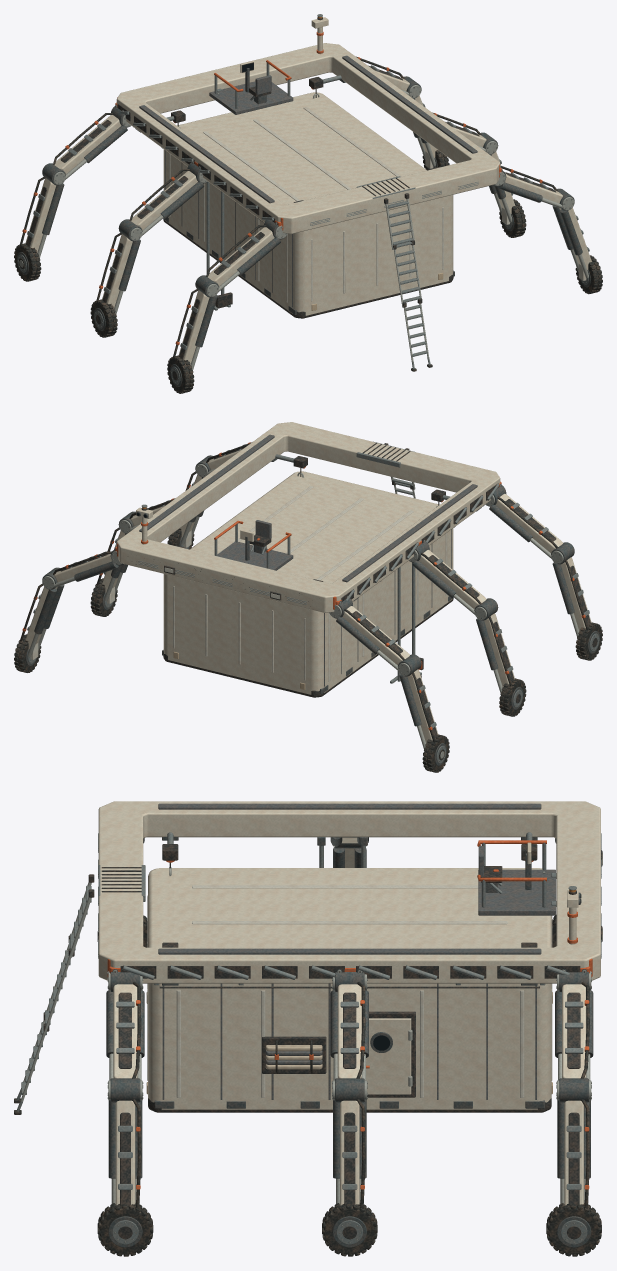
File: walker.glb
3 renders of one model, top to bottom at view 1: azimuth 30°, elevation 25°; view 2: azimuth 150°, elevation 25°; view 3: azimuth 270°, elevation 25°, orthographic. The views are drawn at different scales.
Visible parts, largest first — view 1: General_Module_outer_shell_rover_white, frame_rover_white, Module_hardware_white_painted, Ride_deck_platform_slate_panel, Body_hardware_graphite, Body_hardware_alloy, Outer_pipe_cover_slate_panel, Outer_pipe_cover_slate_panel.001, Machined_structural_link_rover_white.002, Machined_structural_link_rover_white, Machined_structural_link_rover_white.004, Knee_6_hardware_dark_alloy (+16 smaller); view 2: General_Module_outer_shell_rover_white, frame_rover_white, Module_hardware_white_painted, Body_hardware_alloy, Body_hardware_graphite, Ride_deck_platform_slate_panel, Outer_pipe_cover_slate_panel, Outer_pipe_cover_slate_panel.001, Module_hardware_graphite, Knee_4_hardware_dark_alloy, Machined_structural_link_rover_white.002, Machined_structural_link_rover_white (+16 smaller); view 3: General_Module_outer_shell_rover_white, frame_rover_white, Module_hardware_white_painted, Module_hardware_graphite, Body_hardware_graphite, Pressed_pressure_hatch_rover_white, Ride_deck_platform_slate_panel, Outer_pipe_cover_slate_panel, Outer_pipe_cover_slate_panel.001, Module_hardware_slate_panel, Body_hardware_alloy, Knee_6_hardware_dark_alloy (+23 smaller).
Boxes of the visible parts, x1,y1,x2,y2 form: General_Module_outer_shell_rover_white: (163,92,453,315); frame_rover_white: (116,43,500,233); Module_hardware_white_painted: (169,107,443,302); Ride_deck_platform_slate_panel: (209,81,293,114); Body_hardware_graphite: (115,104,409,224); Body_hardware_alloy: (120,111,478,225); Outer_pipe_cover_slate_panel: (139,105,274,203); Outer_pipe_cover_slate_panel.001: (342,55,477,153); Machined_structural_link_rover_white.002: (131,171,197,230); Machined_structural_link_rover_white: (54,115,121,174); Machined_structural_link_rover_white.004: (208,227,274,286); Knee_6_hardware_dark_alloy: (552,188,582,255); General_Module_outer_shell_rover_white: (163,471,453,694); frame_rover_white: (116,422,500,612); Module_hardware_white_painted: (173,486,447,681); Body_hardware_alloy: (138,441,499,604); Body_hardware_graphite: (136,443,501,606); Ride_deck_platform_slate_panel: (217,542,293,570); Outer_pipe_cover_slate_panel: (342,484,477,582); Outer_pipe_cover_slate_panel.001: (139,434,274,532); Module_hardware_graphite: (163,598,453,697); Knee_4_hardware_dark_alloy: (34,567,64,634); Machined_structural_link_rover_white.002: (419,549,486,609); Machined_structural_link_rover_white: (342,606,409,665); General_Module_outer_shell_rover_white: (148,868,551,1109); frame_rover_white: (98,801,600,983); Module_hardware_white_painted: (147,885,552,1097); Module_hardware_graphite: (148,875,551,1112); Body_hardware_graphite: (101,850,602,978); Pressed_pressure_hatch_rover_white: (366,1018,411,1094); Ride_deck_platform_slate_panel: (478,869,555,915); Outer_pipe_cover_slate_panel: (158,803,541,809); Outer_pipe_cover_slate_panel.001: (158,948,541,954); Module_hardware_slate_panel: (162,983,536,1099); Body_hardware_alloy: (98,833,601,985); Knee_6_hardware_dark_alloy: (108,1078,142,1178).
Bounding box in the file's own units: 15.87 × 6.96 × 13.13.
14 materials, 11 textured.
